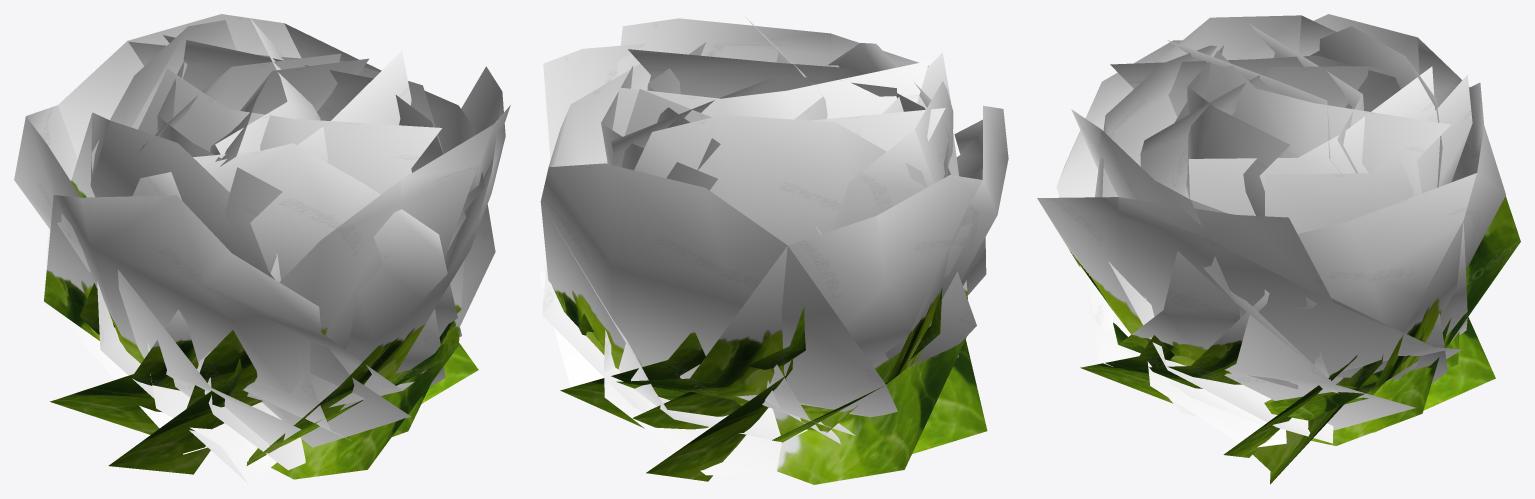
The model's file is Lettuce.fbx.
3 renders of one model, left to right at view 1: azimuth 30°, elevation 25°; view 2: azimuth 150°, elevation 25°; view 3: azimuth 270°, elevation 25°, orthographic. The views are drawn at different scales.
Parts seen in each view (by area): view 1: Plane.004, Plane.016, Plane.003, Plane.017, Plane.012, Plane.005, Plane.006, Plane.007, Plane.001, Plane.015, Plane.010, Plane.013 (+5 smaller); view 2: Plane.001, Plane.005, Plane.013, Plane.007, Plane.010, Plane.017, Plane.003, Plane.004, Lettuce, Plane.015, Plane.002, Plane.012 (+5 smaller); view 3: Plane.015, Plane.002, Plane.014, Plane.012, Plane.010, Plane.003, Plane.001, Plane.006, Plane.016, Plane.005, Plane.017, Plane.008 (+5 smaller).
Part boxes in pixels (x1,y1,x2,y2): Plane.004: [44, 195, 414, 407]; Plane.016: [80, 143, 461, 361]; Plane.003: [186, 105, 510, 408]; Plane.017: [71, 112, 410, 447]; Plane.012: [138, 68, 445, 386]; Plane.005: [14, 105, 301, 445]; Plane.006: [163, 35, 466, 479]; Plane.007: [50, 51, 411, 434]; Plane.001: [43, 14, 301, 454]; Plane.015: [246, 66, 505, 465]; Plane.010: [108, 18, 320, 474]; Plane.013: [91, 20, 276, 484]; Plane.001: [540, 163, 897, 417]; Plane.005: [616, 175, 986, 405]; Plane.013: [579, 114, 976, 368]; Plane.007: [628, 49, 967, 484]; Plane.010: [604, 74, 987, 475]; Plane.017: [632, 81, 953, 429]; Plane.003: [539, 18, 958, 387]; Plane.004: [772, 105, 1008, 442]; Lettuce: [607, 61, 929, 163]; Plane.015: [542, 43, 656, 412]; Plane.002: [548, 63, 807, 441]; Plane.012: [646, 17, 827, 481]; Plane.015: [1037, 197, 1461, 389]; Plane.002: [1113, 173, 1476, 379]; Plane.014: [1093, 75, 1472, 401]; Plane.012: [1140, 66, 1495, 447]; Plane.010: [1174, 50, 1450, 383]; Plane.003: [1071, 109, 1415, 430]; Plane.001: [1264, 82, 1505, 420]; Plane.006: [1080, 66, 1435, 403]; Plane.016: [1095, 45, 1333, 443]; Plane.005: [1313, 14, 1520, 399]; Plane.017: [1086, 15, 1459, 369]; Plane.008: [1110, 55, 1451, 445].
Size of the model in its own units: 174 by 147 by 168.
Materials: 1 (1 with a texture image).
